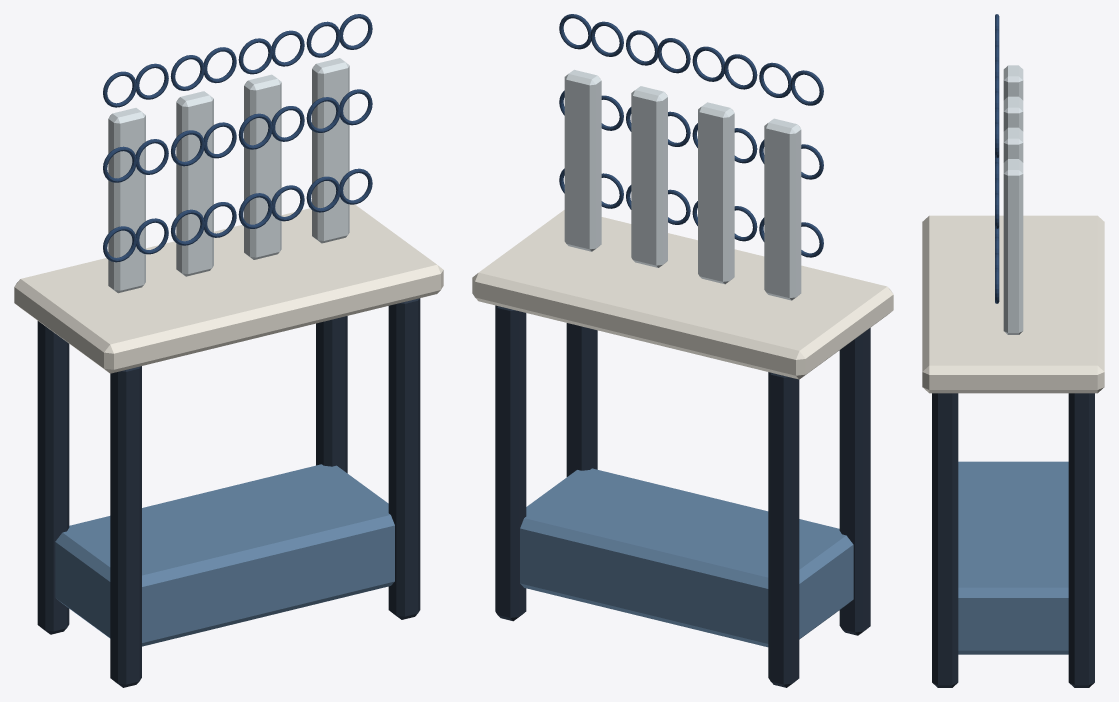
The model's file is mall_10.glb.
The picture shows the model from 3 angles, left to right: view 1: azimuth 30°, elevation 25°; view 2: azimuth 150°, elevation 25°; view 3: azimuth 270°, elevation 25°; orthographic projection. The views are drawn at different scales.
Visible parts, largest first — view 1: CounterBase, TableTop, Leg (×4), EyewearStand (×4); view 2: CounterBase, TableTop, Leg (×4), EyewearStand (×4); view 3: TableTop, CounterBase, Leg (×2), EyewearStand (×4).
Part boxes in pixels (x1,y1,x2,y2): CounterBase: (55,464,394,646); TableTop: (14,204,443,373); Leg (×4): (37,298,420,687); EyewearStand (×4): (108,58,349,293); CounterBase: (520,468,853,647); TableTop: (472,210,893,379); Leg (×4): (495,305,870,687); EyewearStand (×4): (564,69,801,300); TableTop: (922,215,1104,393); CounterBase: (958,461,1068,654); Leg (×2): (932,393,1094,687); EyewearStand (×4): (1003,65,1023,334).
Bounding box in the file's own units: 0.85 × 1.4 × 0.42.
